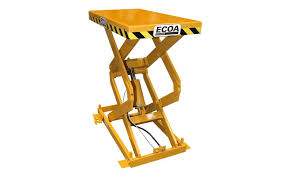Scissor Lift: (88, 8, 203, 170)
